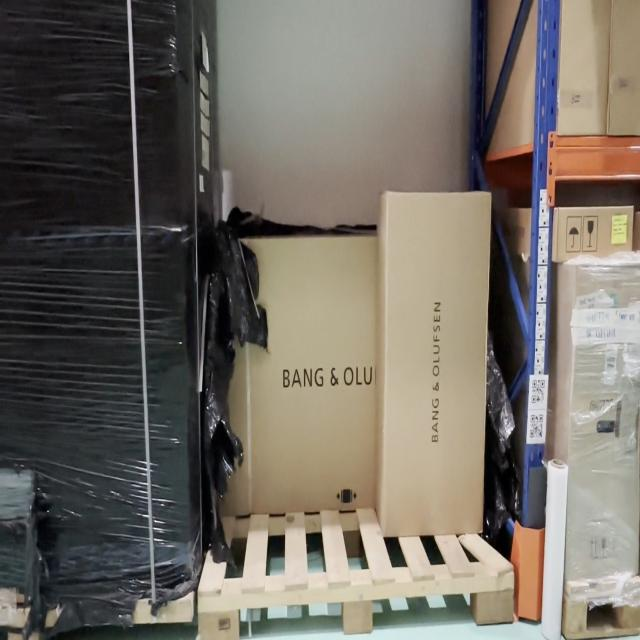box: (217, 236, 378, 509), (386, 194, 482, 532), (577, 266, 639, 575), (558, 209, 632, 257)
